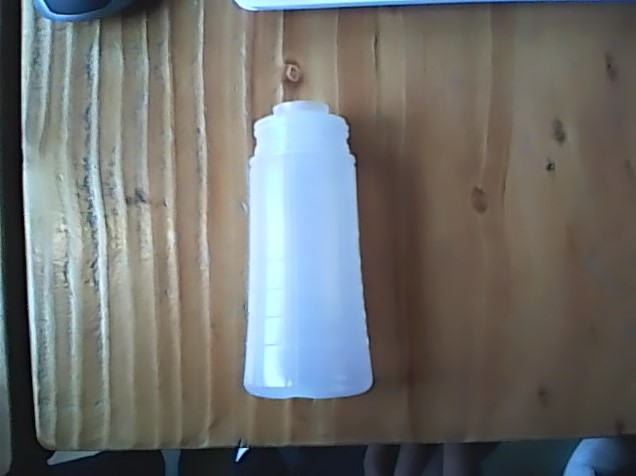Plastic: (239, 98, 376, 405)
